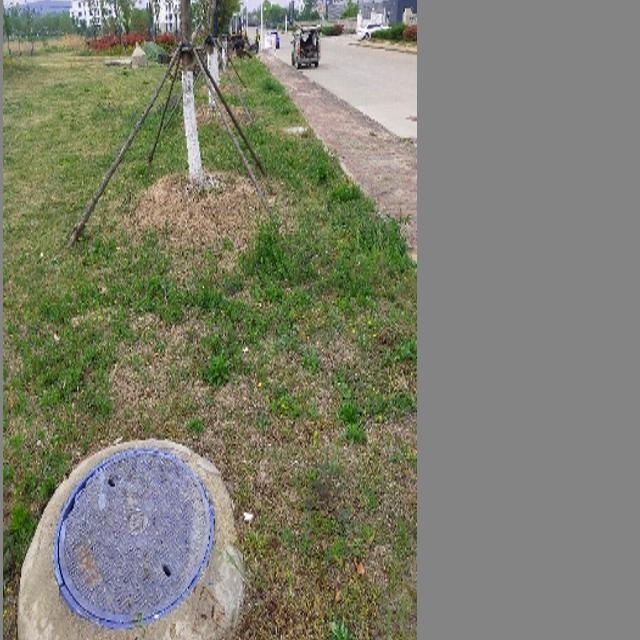good: (51, 436, 217, 627)
